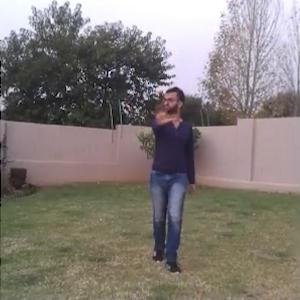follow_hand: (148, 95, 178, 126)
